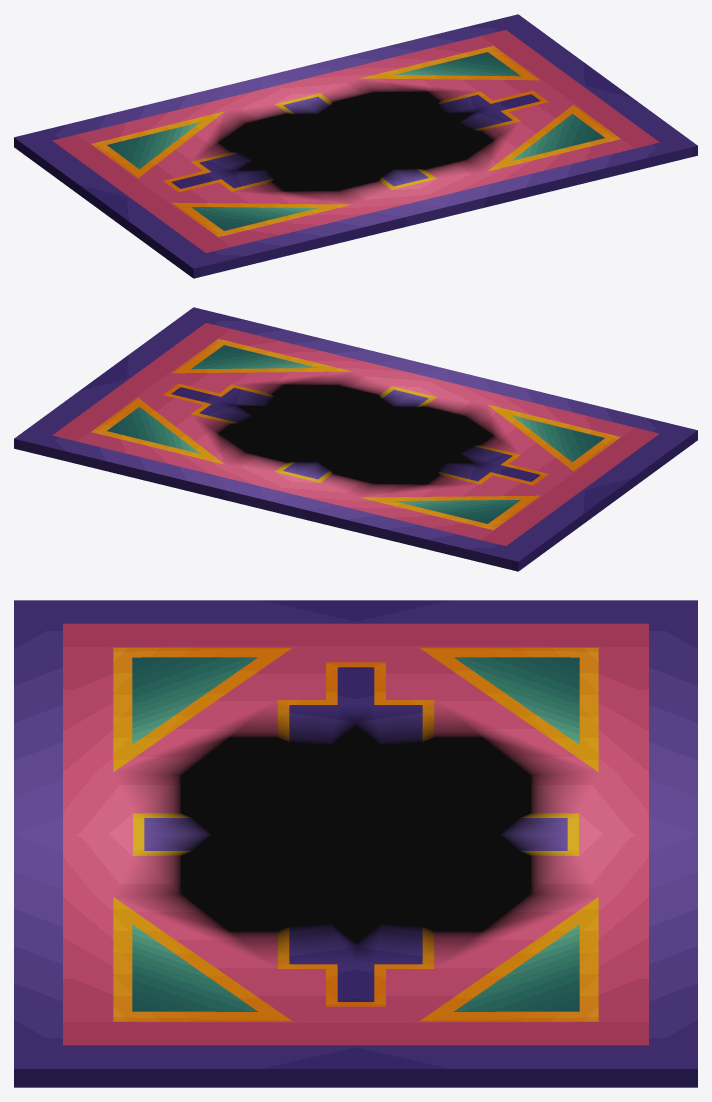
The model's file is marrakeshBoard02.glb.
3 views of the same model, one above another, from view 1: azimuth 30°, elevation 25°; view 2: azimuth 150°, elevation 25°; view 3: azimuth 270°, elevation 25° (orthographic). The views are drawn at different scales.
Parts seen in each view (by area): view 1: marrakeshBoard02; view 2: marrakeshBoard02; view 3: marrakeshBoard02.
Part boxes in pixels (bbox=[...]): marrakeshBoard02: bbox=[14, 14, 697, 278]; marrakeshBoard02: bbox=[14, 307, 697, 571]; marrakeshBoard02: bbox=[14, 600, 697, 1087].
Bounding box in the file's own units: 10.89 × 0.2046 × 6.72.
1 material, 1 textured.
